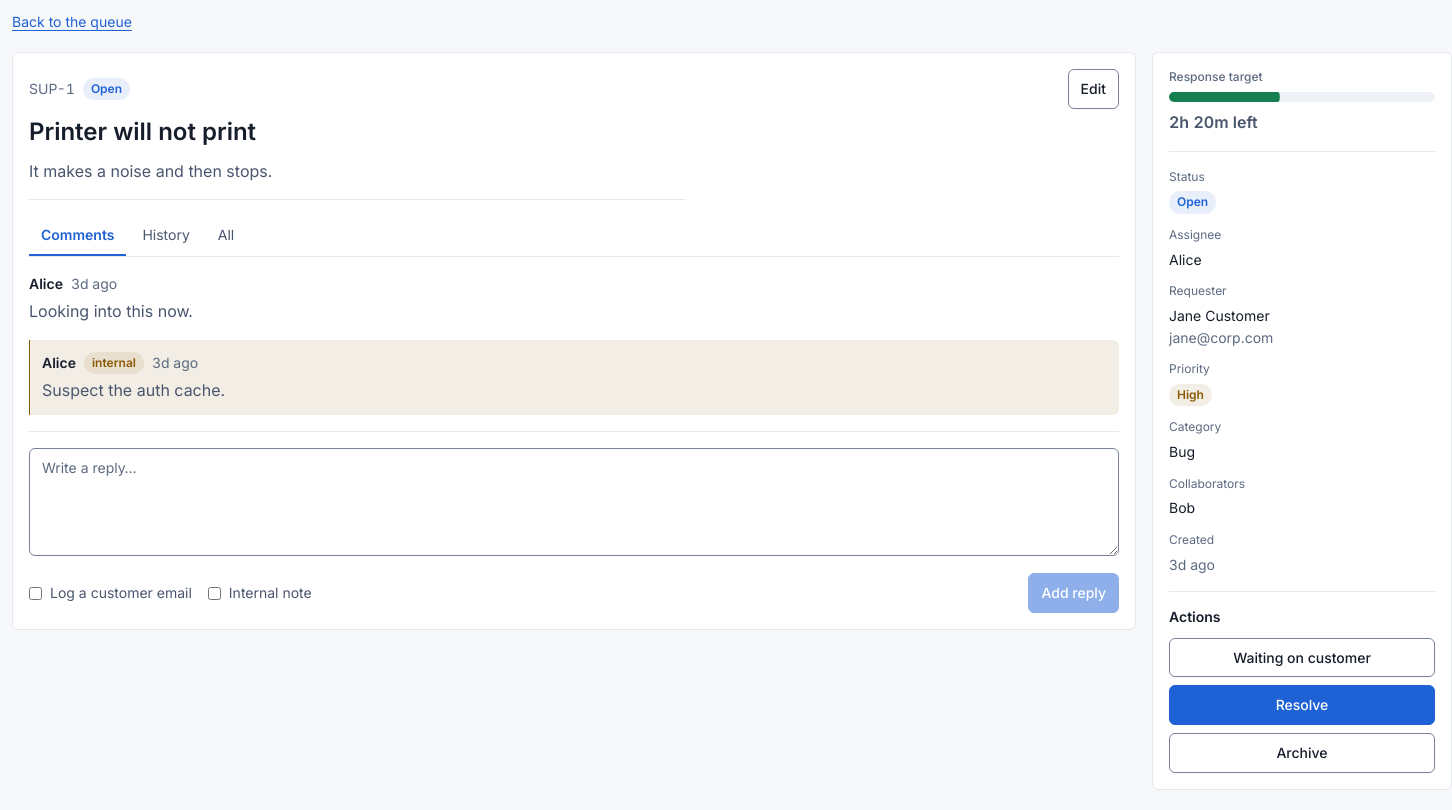
Test: TicketDetailPage › rules out marking a customer email as internal
The image size is (1452, 810).
Click the checkbox labelled "Log a customer email" at point(36, 593), box [29, 587, 42, 600]
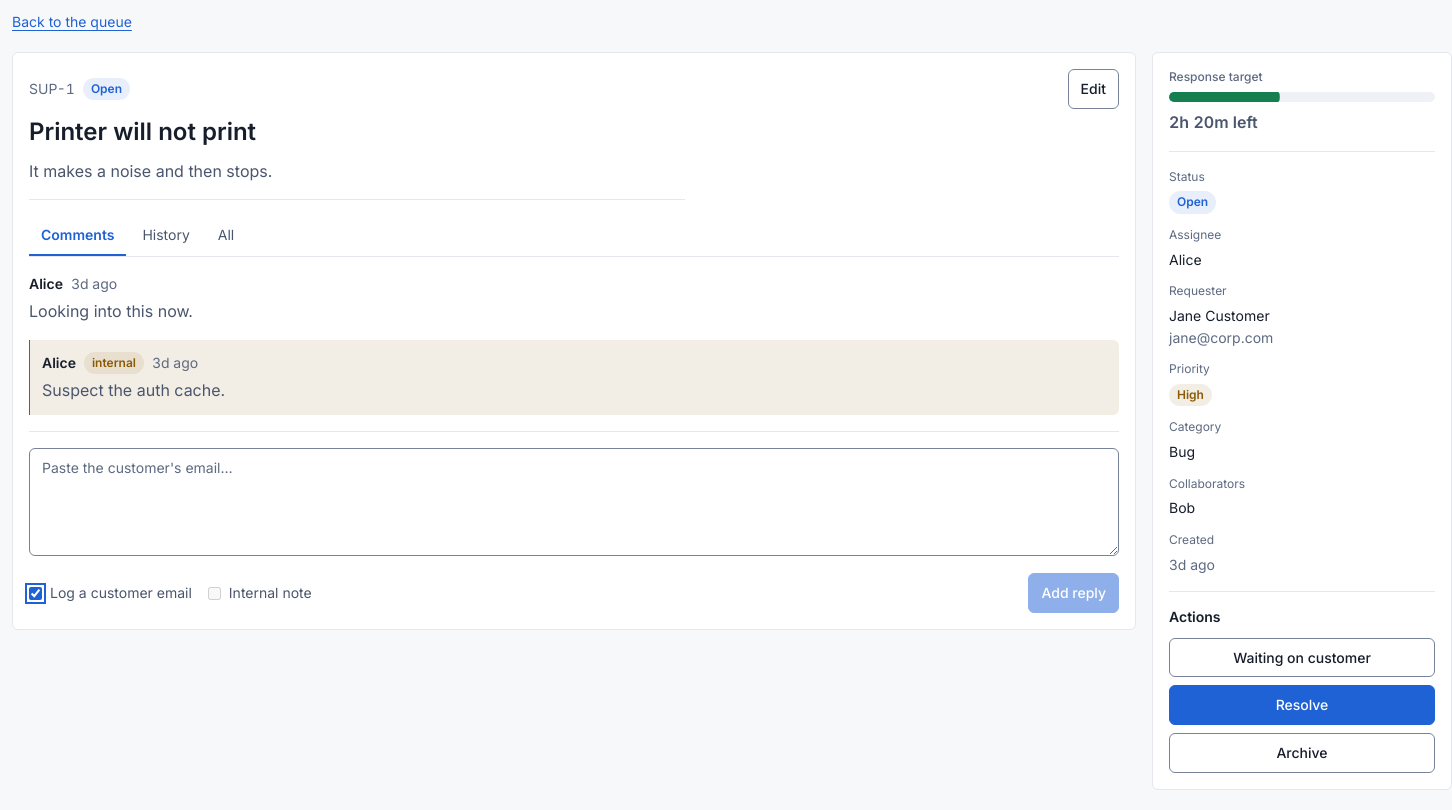
Now the checkbox labelled "Internal note" is disabled, box [208, 587, 221, 600]
